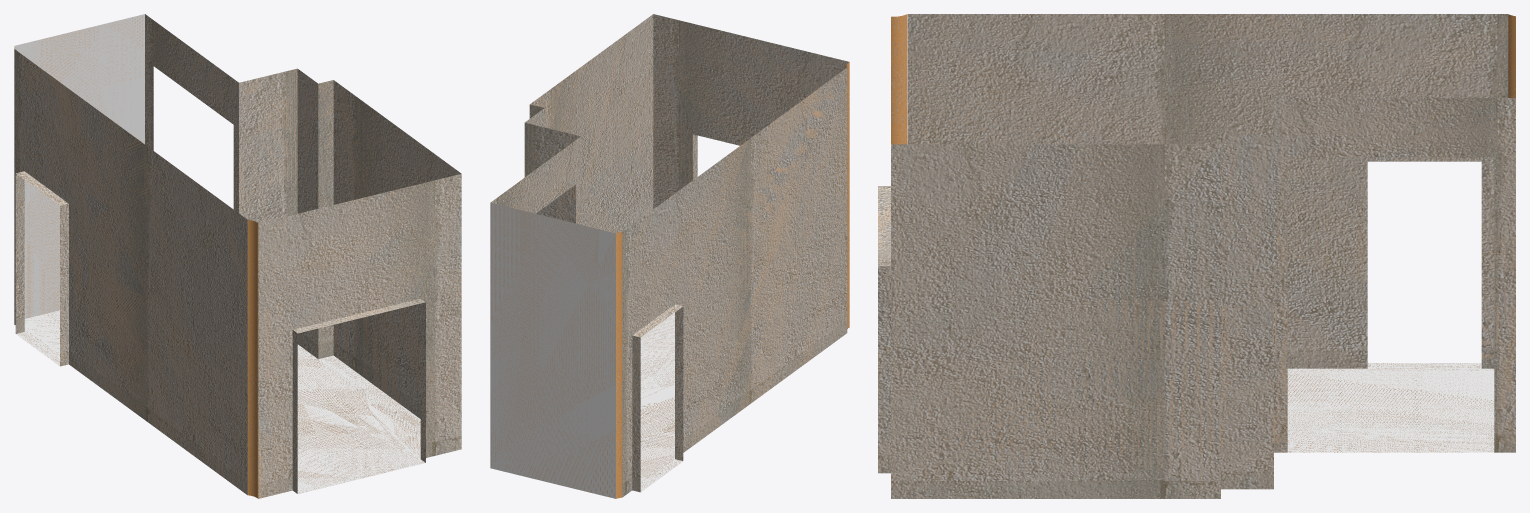
The model's file is COM041.obj.
3 views of the same model, side by side, from view 1: azimuth 30°, elevation 25°; view 2: azimuth 150°, elevation 25°; view 3: azimuth 270°, elevation 25° (orthographic). The views are drawn at different scales.
Parts seen in each view (by area): view 1: Mesh1 COM041 Model; view 2: Mesh1 COM041 Model; view 3: Mesh1 COM041 Model.
Boxes of the visible parts, box(x1,y1,x2,y2) form: Mesh1 COM041 Model: box(14, 14, 461, 498); Mesh1 COM041 Model: box(490, 14, 849, 498); Mesh1 COM041 Model: box(878, 14, 1515, 498).
Size of the model in its own units: 2.96 by 3.6 by 5.87.
5 materials, 2 textured.
